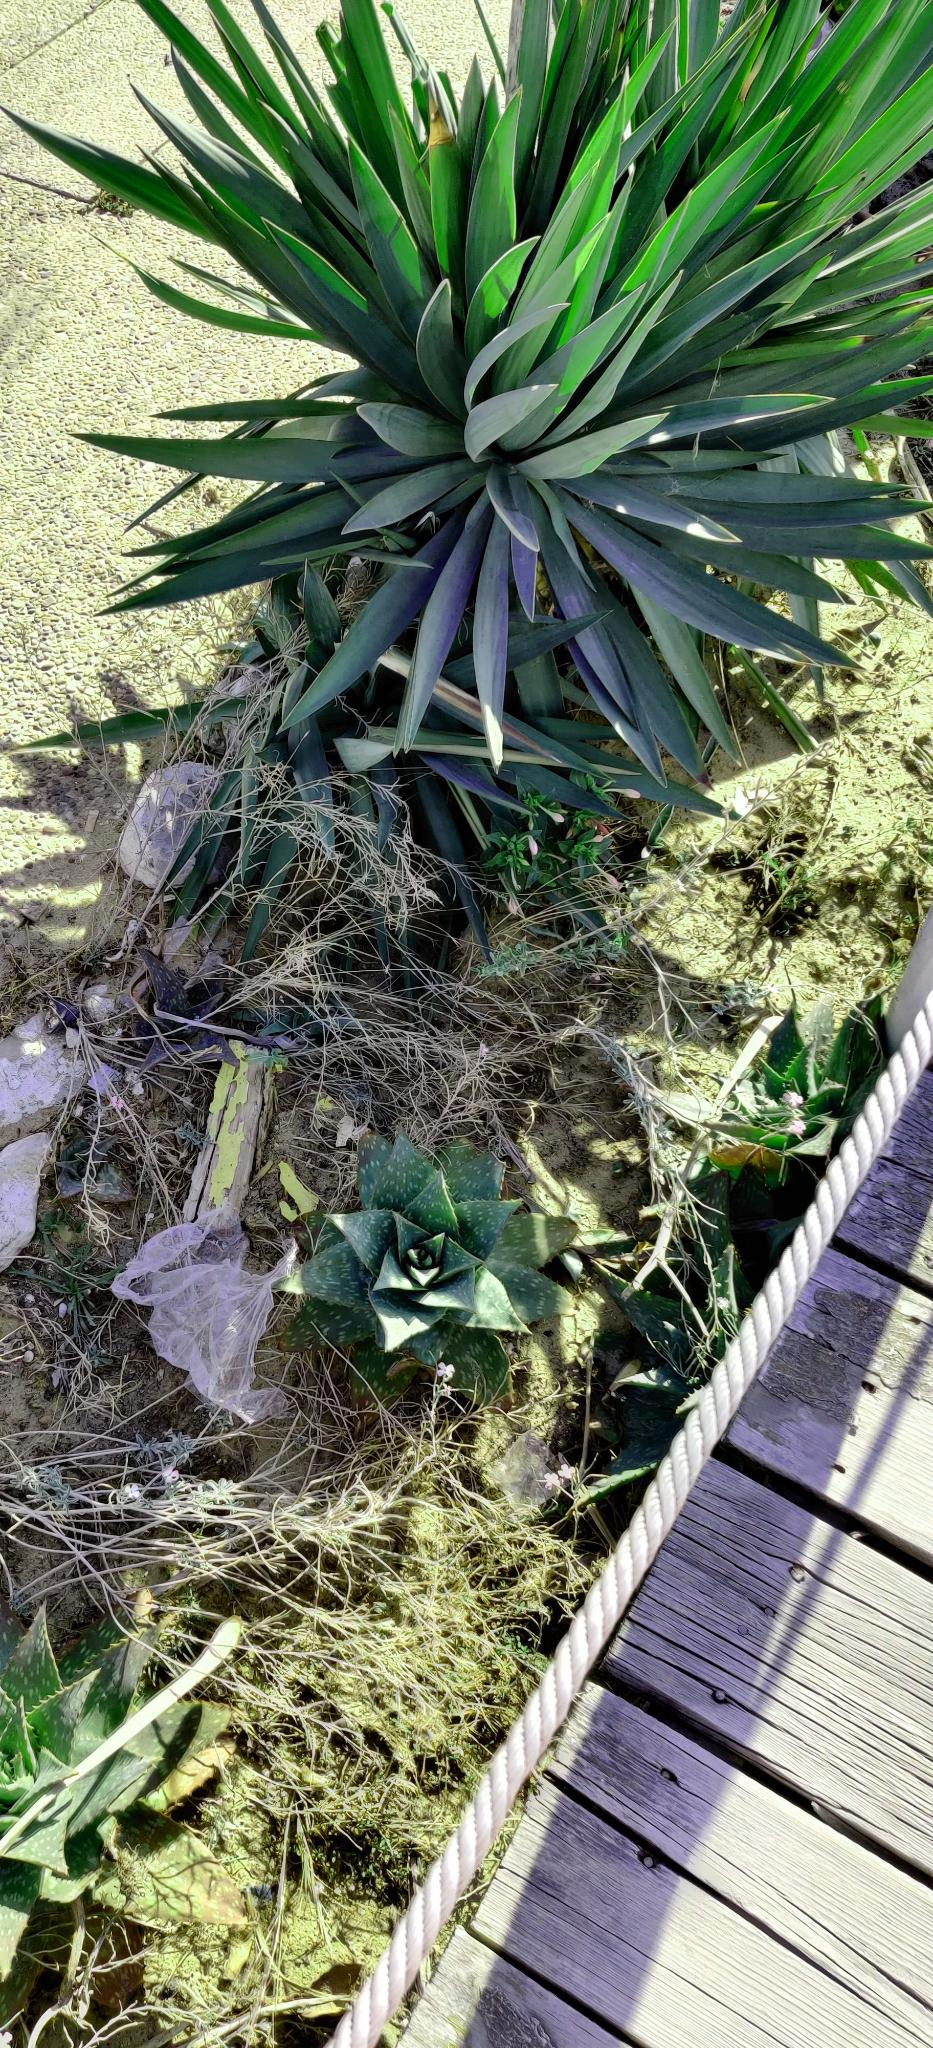Metal: (97, 751, 235, 904)
Plastic: (98, 1192, 306, 1425)
